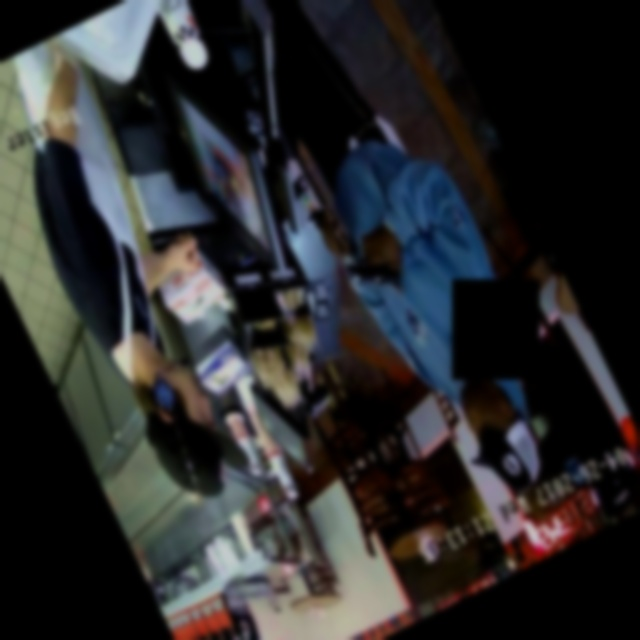gun: (321, 215, 429, 321)
